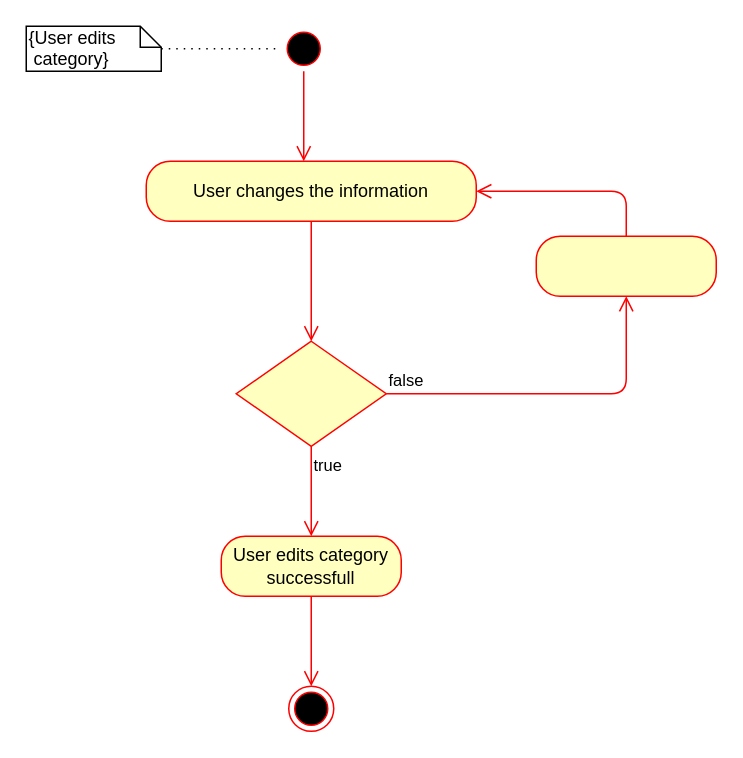
The diagram is 743 pixels wide and 758 high, and some of its shapes have lost their labels. Here are the shapes that lost their labels. From the top down, the centre of each, then its label:
At pixel 625 265: "Invalid".
At pixel 310 393: "Validate data?".
